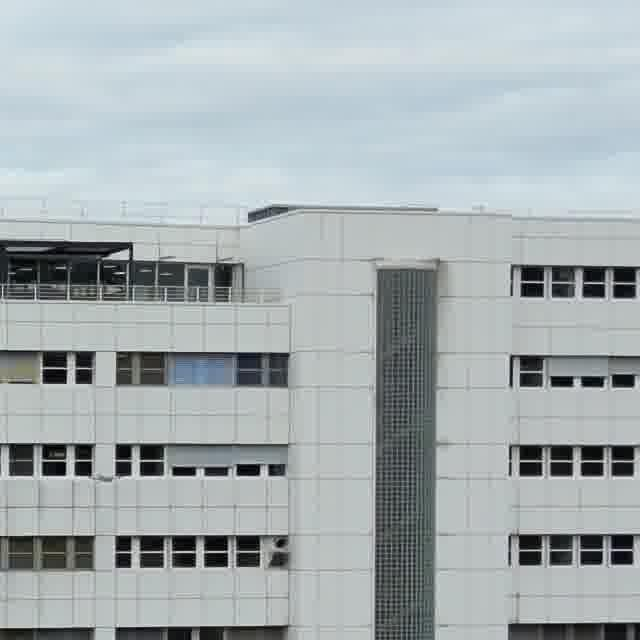Drohne: (93, 475, 114, 482)
